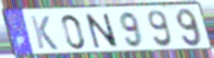0: (61, 13, 86, 51)
9: (173, 7, 203, 48), (148, 9, 174, 49), (118, 10, 144, 49)
K: (29, 14, 60, 51)
N: (84, 13, 121, 50)
